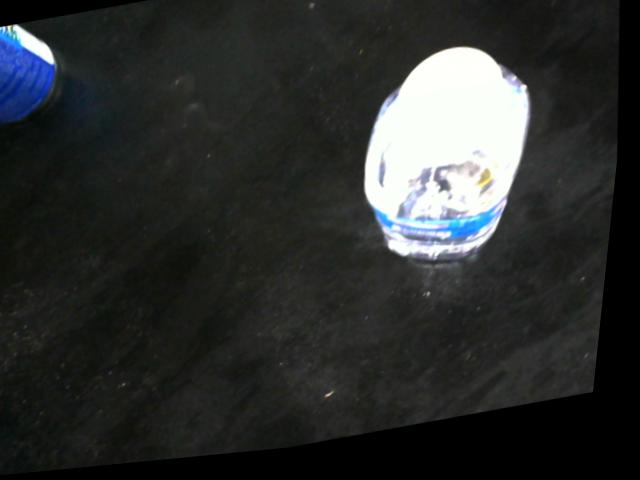bottle: (366, 56, 536, 271)
